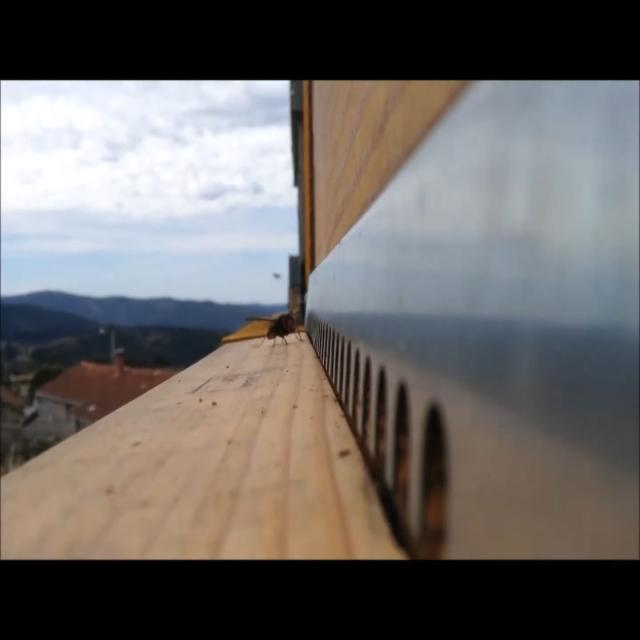Hornets: (243, 304, 313, 348)
